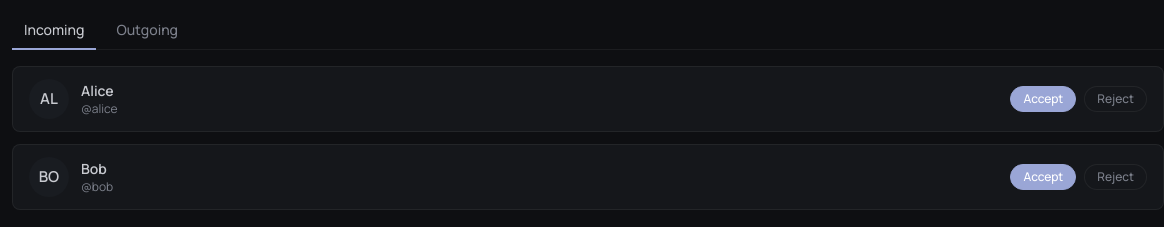
it: RequestsInbox › removes a row optimistically on Accept
Expected: the text "Alice" is shown, [81,81,118,101]
Click the 1st button "Accept". click: (1043, 99)
box: [1010,86,1076,112]
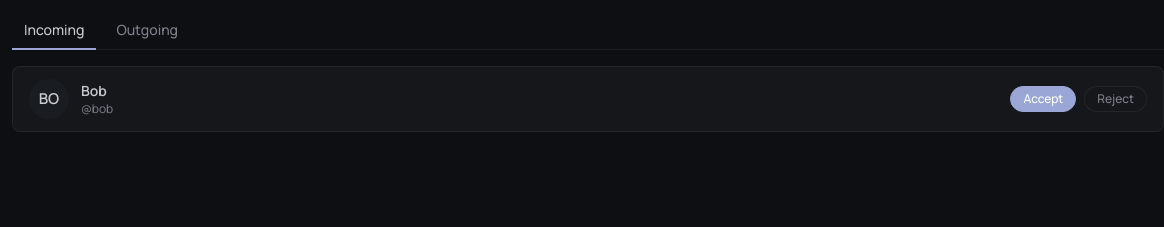
Expected: the text "Bob" is shown, [81,81,107,100]
Now the link "Alice" is gone
